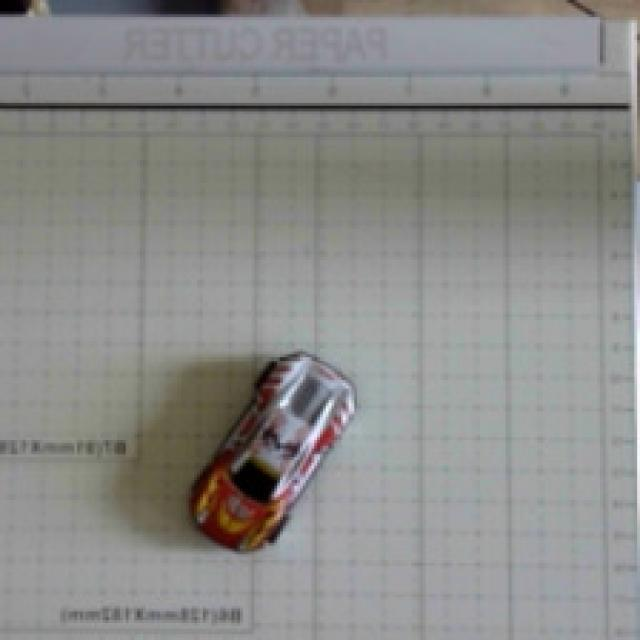Red Car: (152, 333, 387, 572)
